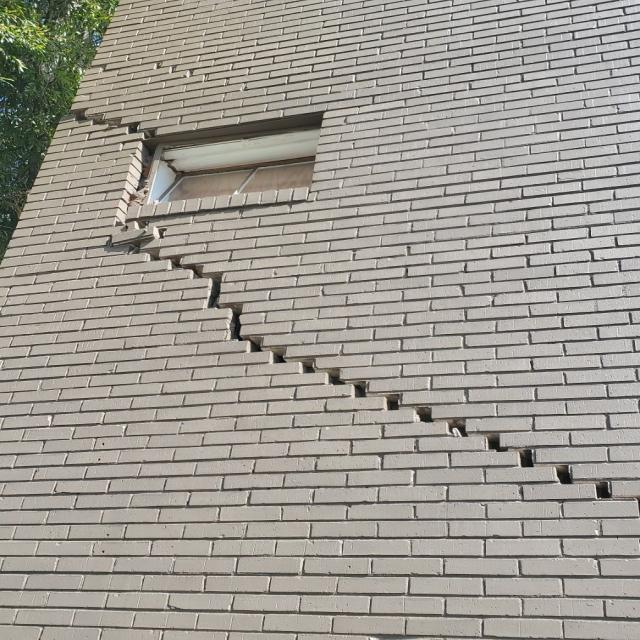Crack: (103, 213, 639, 504), (88, 54, 218, 86), (54, 102, 158, 140)
